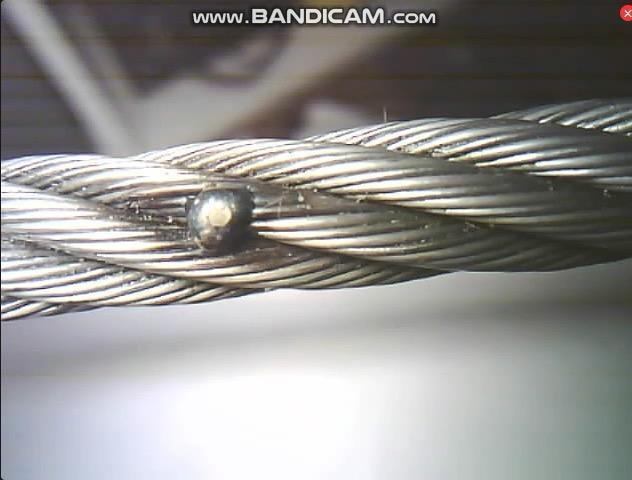thunderbolt: (174, 175, 271, 249)
